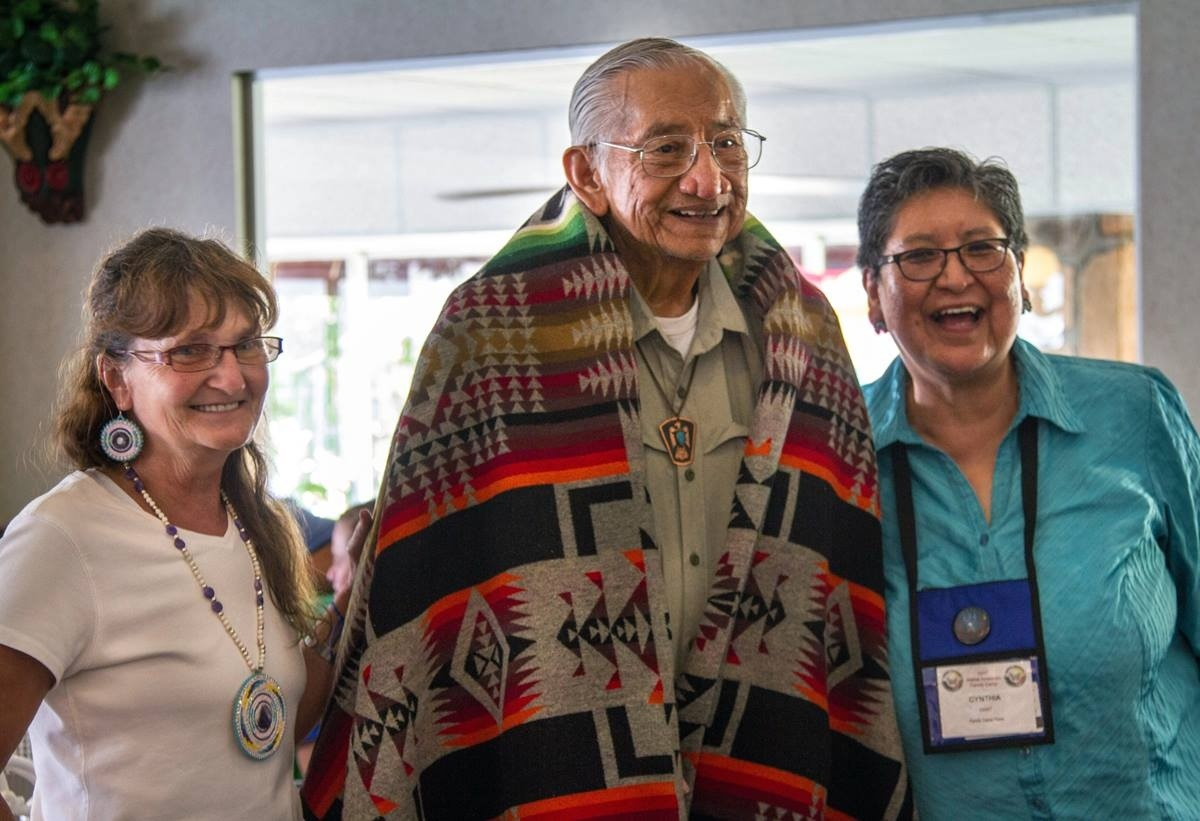face_no_mask: (576, 49, 756, 269), (98, 242, 278, 462), (862, 161, 1035, 381)
